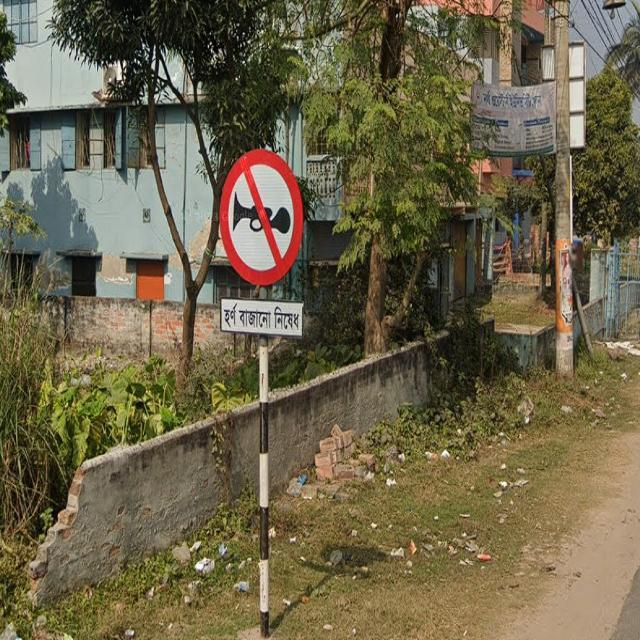Horn-blowing-is-prohibited: (224, 141, 320, 365)
